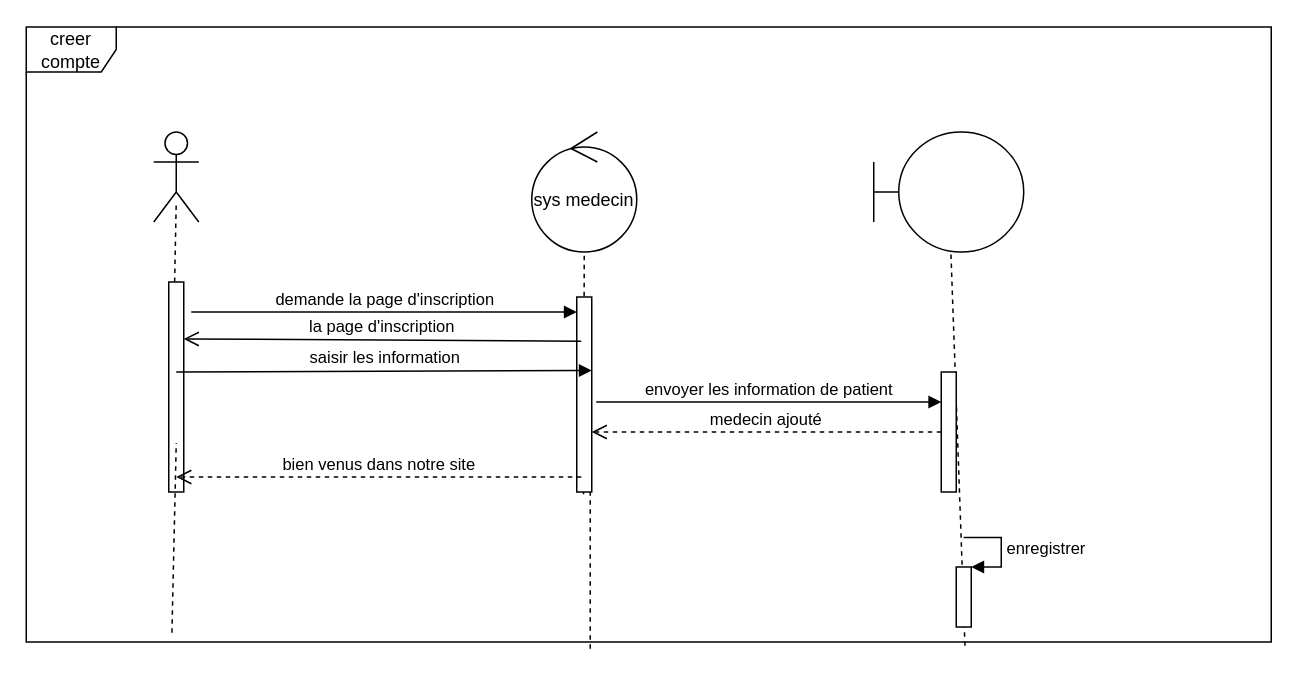
The diagram is 1298 pixels wide and 677 high, and some of its shapes have lost their labels. Each missing label, with the box of its shape:
base de donne: (872, 130, 1024, 252)
medcin: (152, 130, 199, 222)
